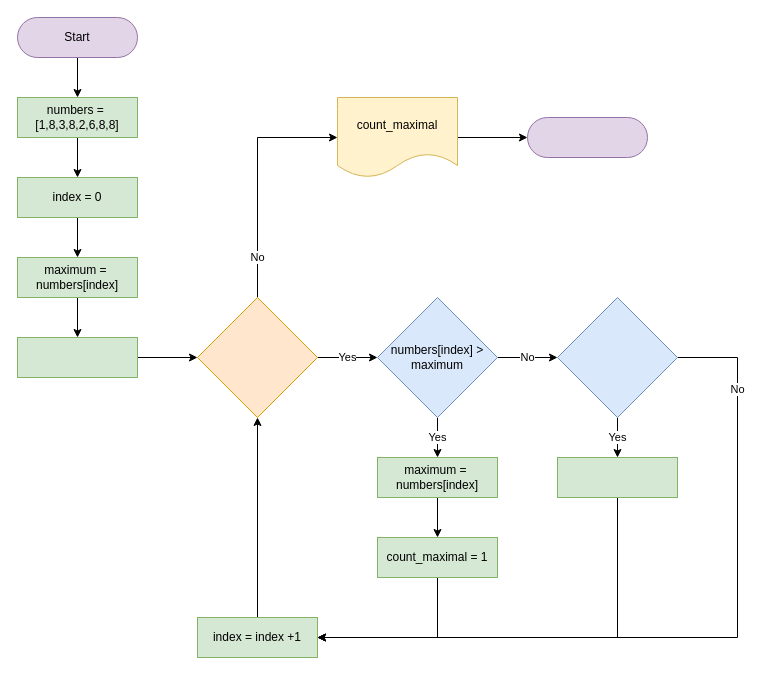
The diagram is 763 pixels wide and 675 high, and some of its shapes have lost their labels. Here are the shapes that lost their labels. From the top down, the centre of each, then its label:
pixel 587 137: Finish
pixel 77 357: count_maximal = 0
pixel 257 357: index < numbers.length
pixel 617 357: numbers[index] = maximum
pixel 617 477: count_maximal = count_maximal +1
